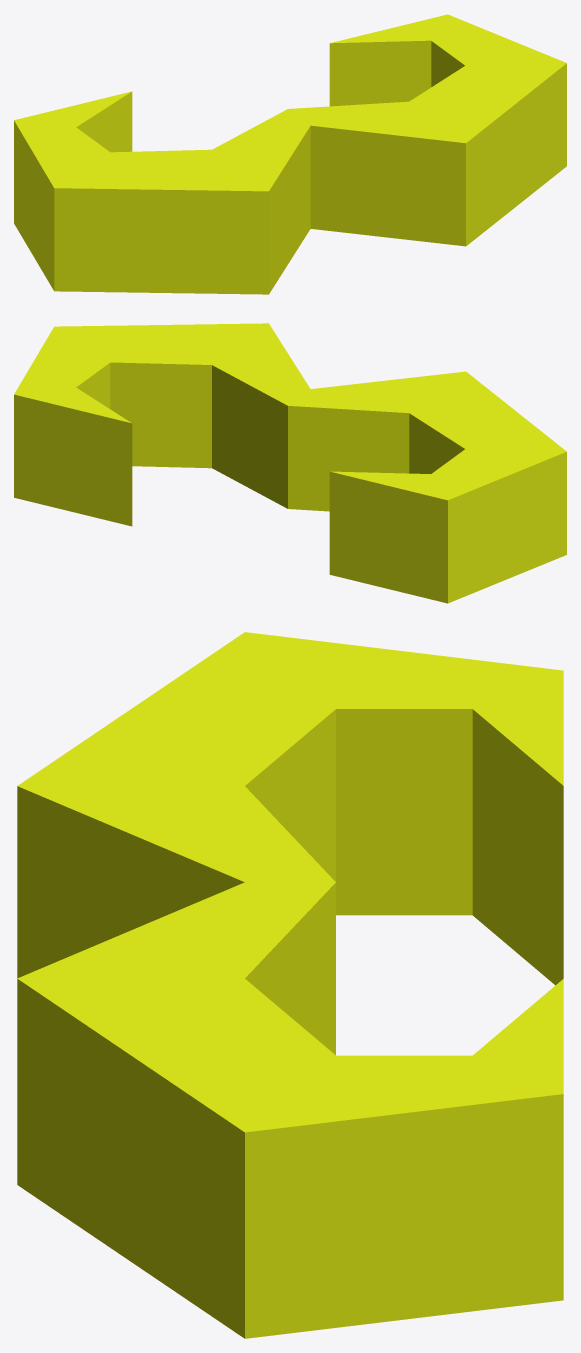
Rendered from inv_mark_of_hazeel.obj.
3 views of the same model, one above another, from view 1: azimuth 30°, elevation 25°; view 2: azimuth 150°, elevation 25°; view 3: azimuth 270°, elevation 25° (orthographic). The views are drawn at different scales.
Bounding box in the file's own units: 0.2031 × 0.0391 × 0.0938.
